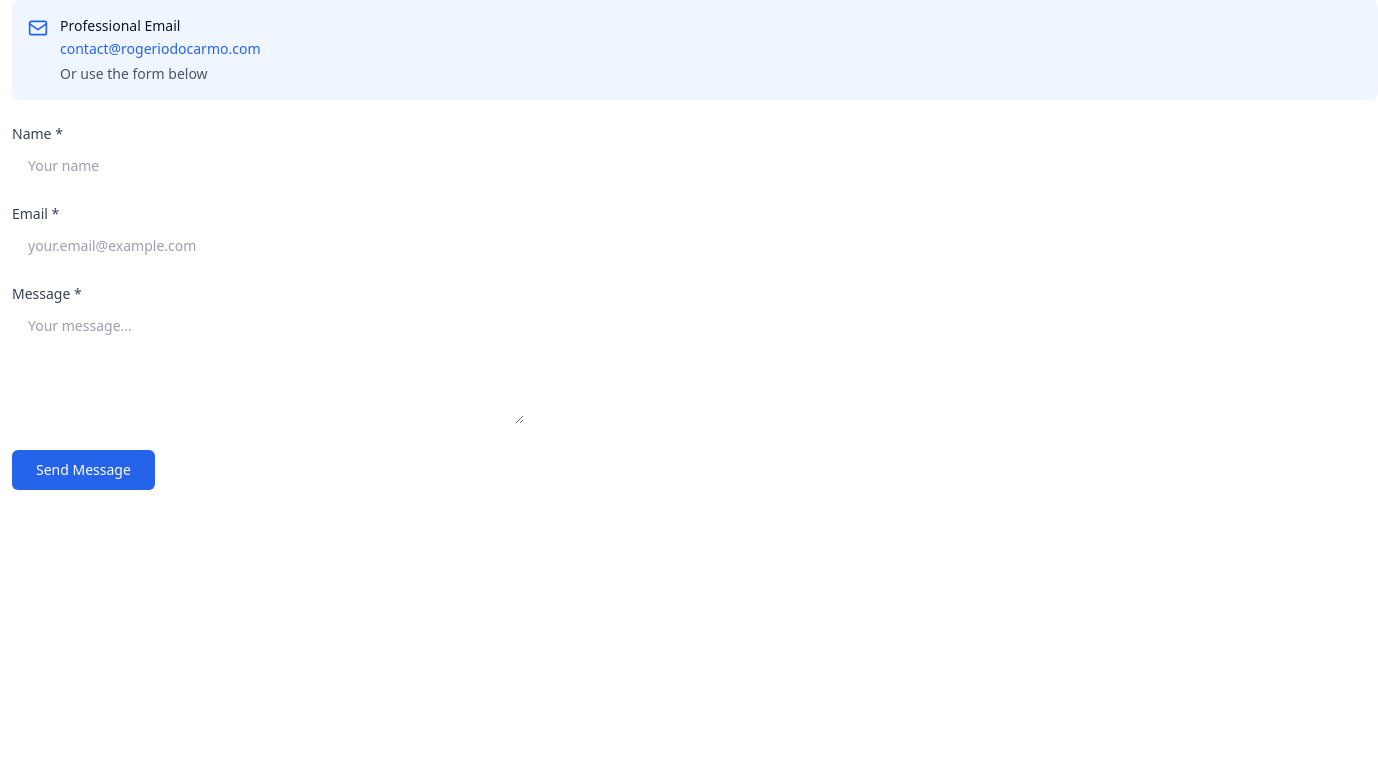
Test: ContactForm Integration Tests › Error handling for API failures › shows error message when API returns error response
This screenshot has width=1378, height=768.
# Fill and submit form
Type "John Doe" into the field labelled "Name *".
click(268, 166); type("John Doe")  # box 12,148 -> 524,184
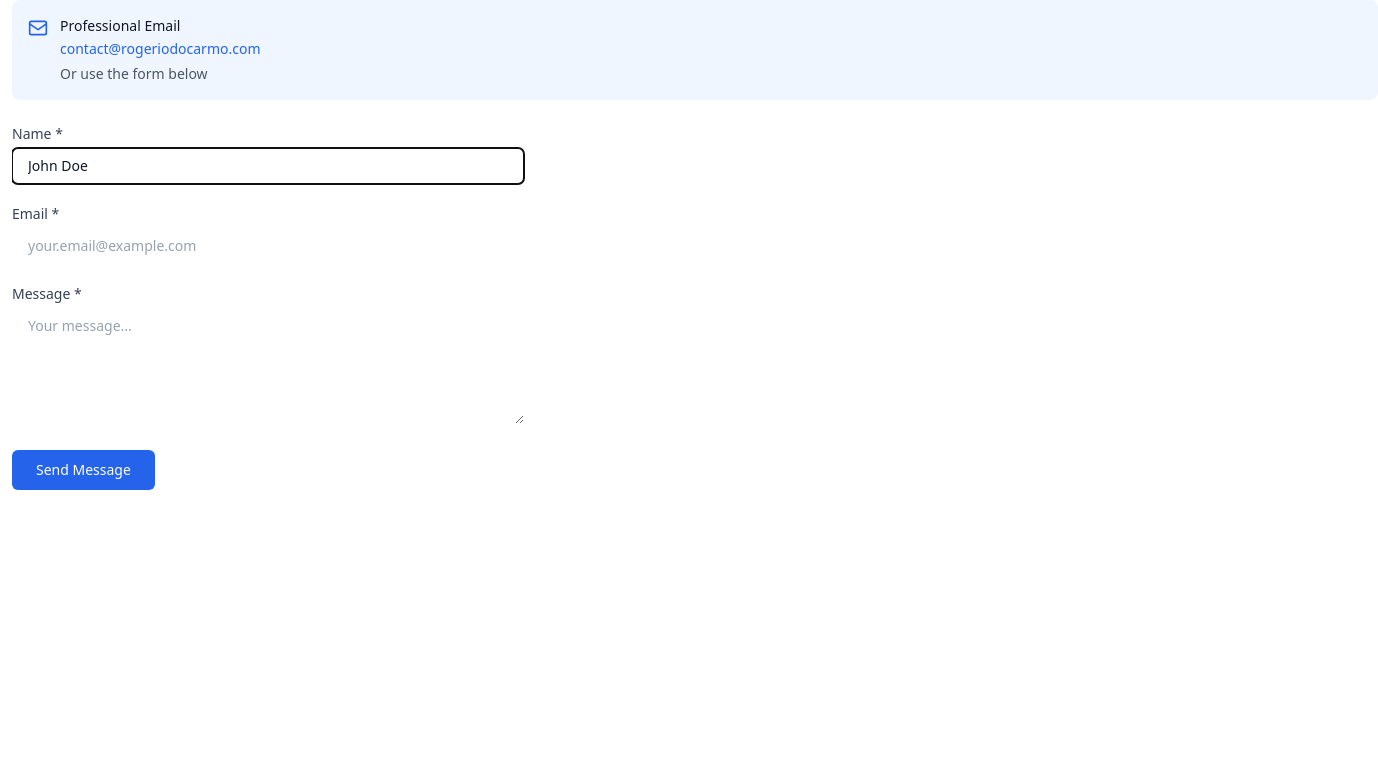
Type "john.doe@example.com" into the field labelled "Email *".
click(268, 246); type("john.doe@example.com")  # box 12,228 -> 524,264
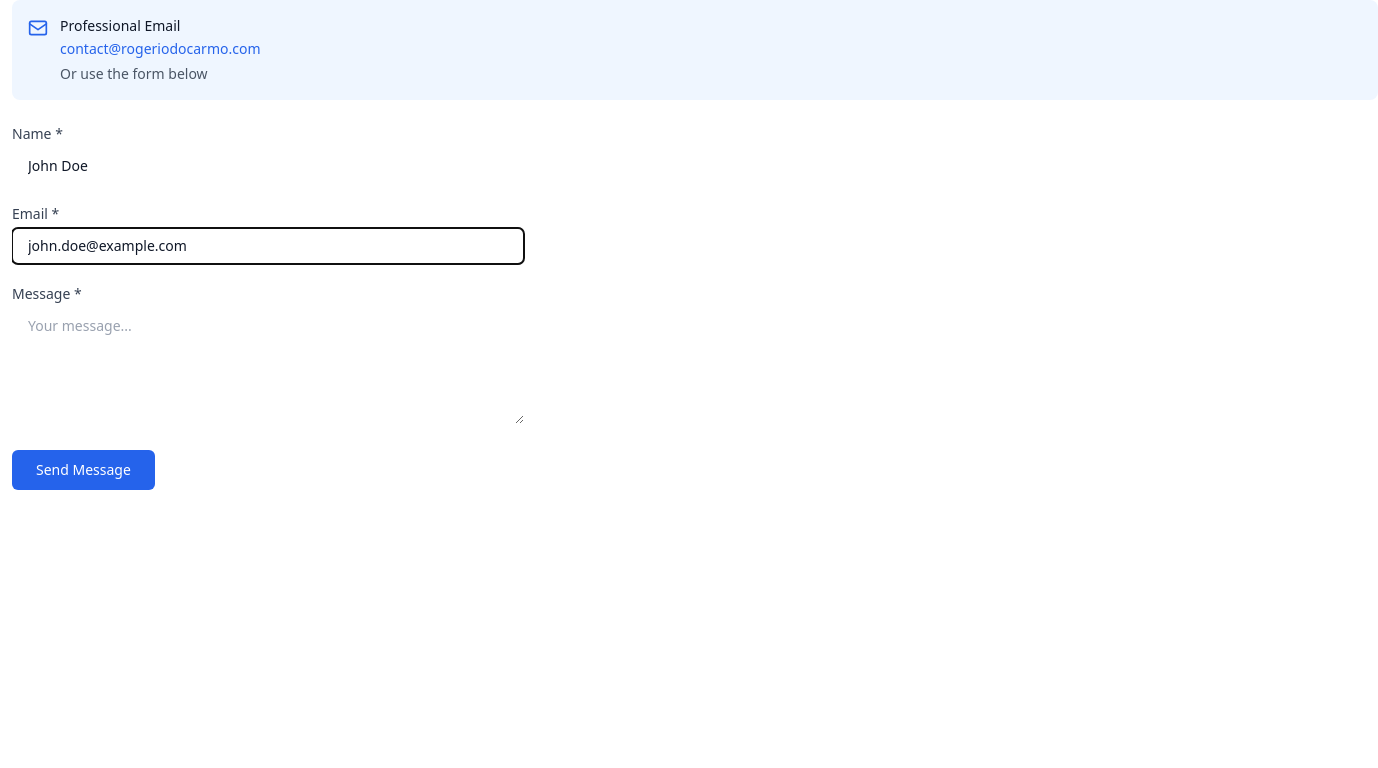
Type "This is a test message that is long enough." into the text box labelled "Message *".
click(268, 366); type("This is a test message that is long enough.")  # box 12,308 -> 524,424
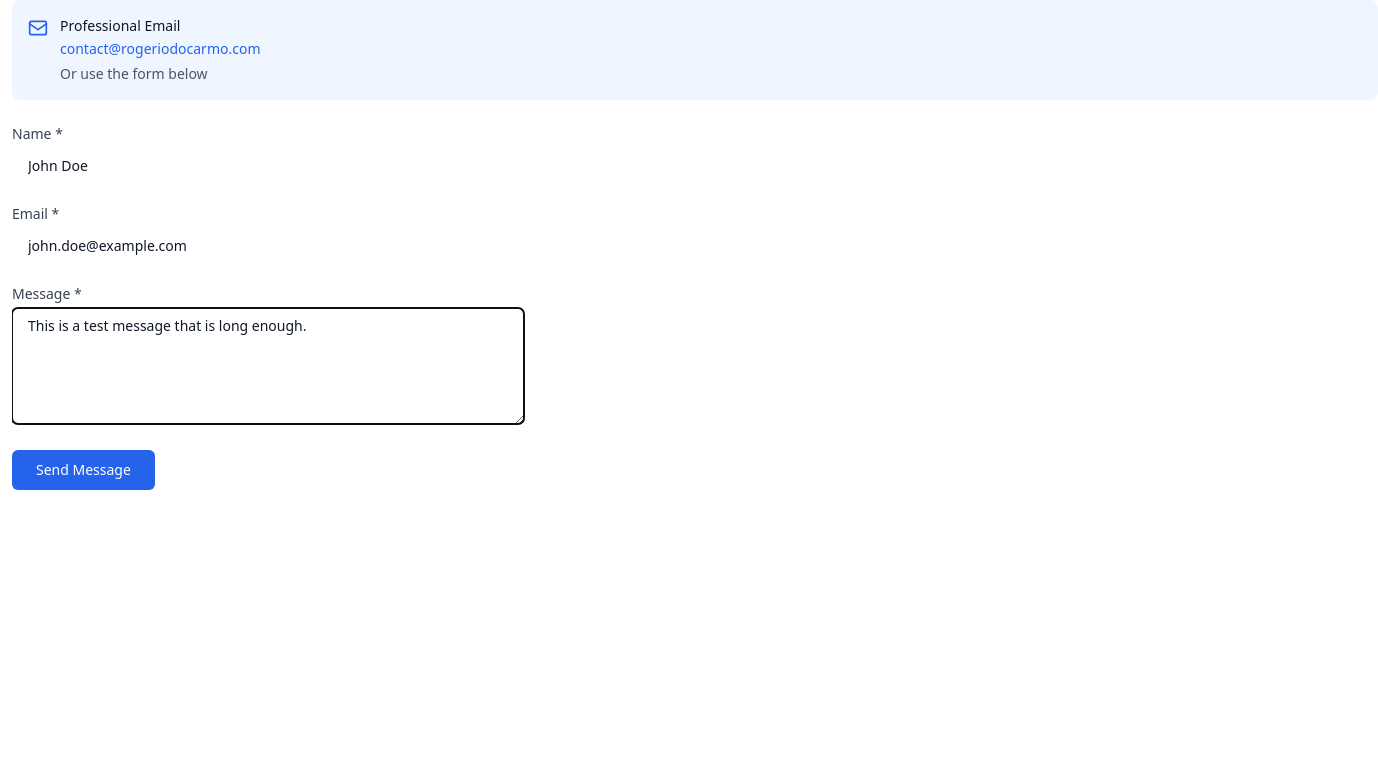
Click the button "Send Message".
click(83, 470)  # box 12,450 -> 155,490
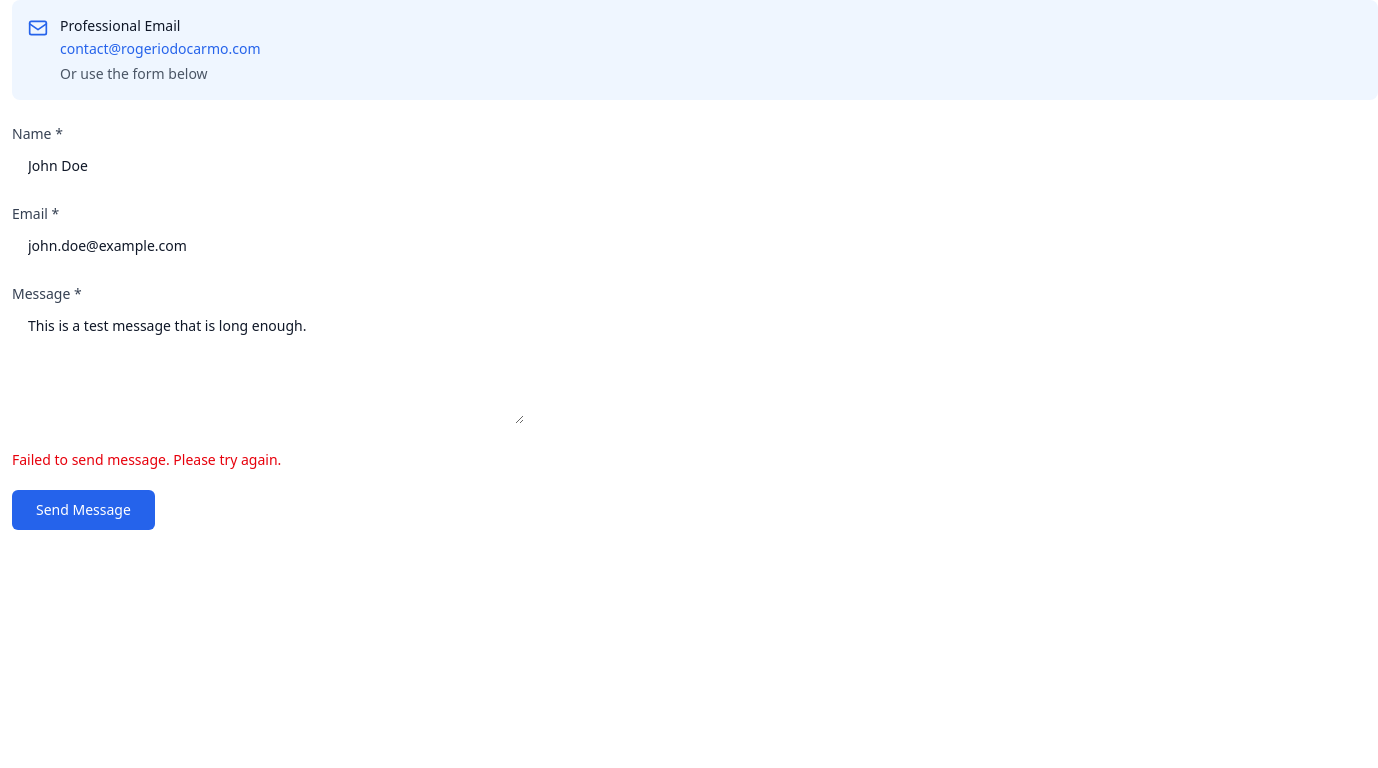
Result: the text "Failed to send message. Please try again." is shown at 12,450 -> 281,469
